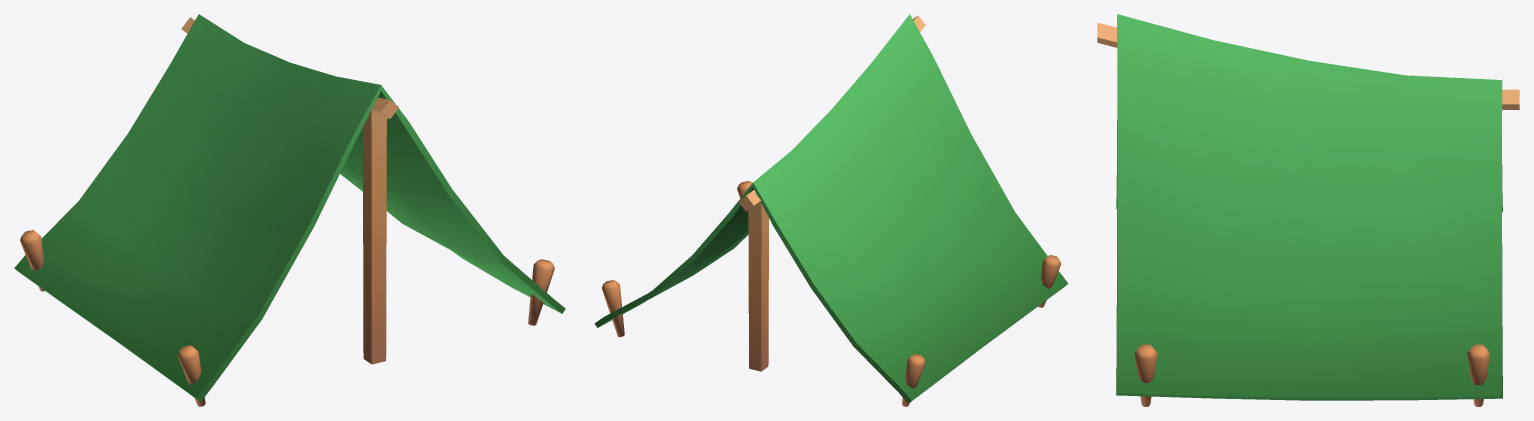
Rendered from SM_Tent.fbx.
3 views of the same model, side by side, from view 1: azimuth 30°, elevation 25°; view 2: azimuth 150°, elevation 25°; view 3: azimuth 270°, elevation 25° (orthographic). The views are drawn at different scales.
Parts seen in each view (by area): view 1: SM_Tent; view 2: SM_Tent; view 3: SM_Tent.
Boxes of the visible parts, <box> form: SM_Tent: <box>14,14,565,406</box>; SM_Tent: <box>594,14,1068,406</box>; SM_Tent: <box>1097,14,1519,406</box>.
Size of the model in its own units: 5.87 by 4.38 by 5.47.
